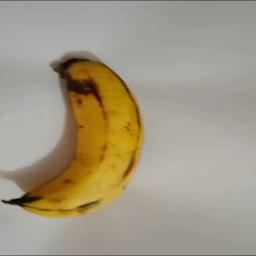Banana Overripe: (2, 55, 142, 216)
